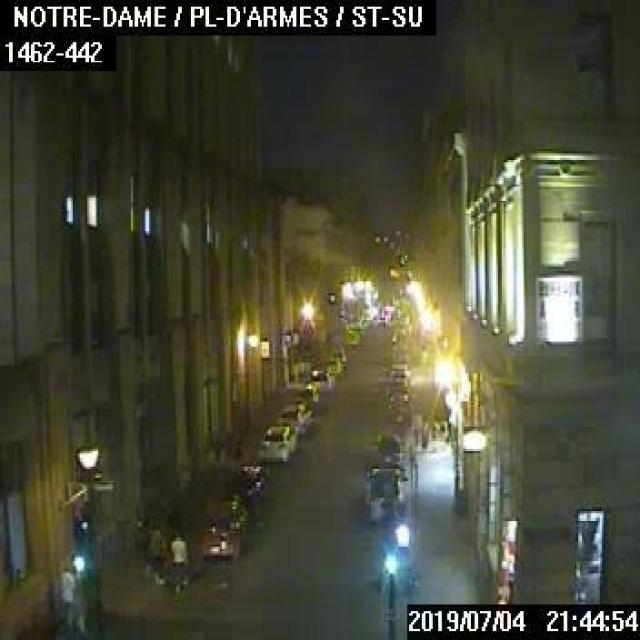pedestrian: (146, 519, 168, 583), (170, 526, 189, 598), (56, 564, 73, 638)
vehicle: (198, 494, 246, 556), (364, 462, 409, 522), (367, 430, 413, 466), (257, 422, 296, 464), (222, 470, 256, 516), (276, 400, 312, 432), (239, 462, 267, 497), (381, 388, 408, 424), (307, 366, 333, 393), (383, 360, 407, 388)
